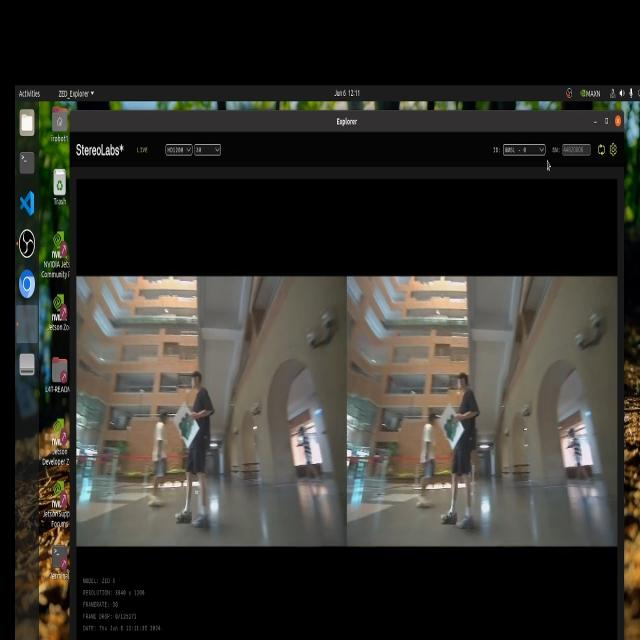green: (172, 409, 199, 451), (437, 411, 468, 446)
